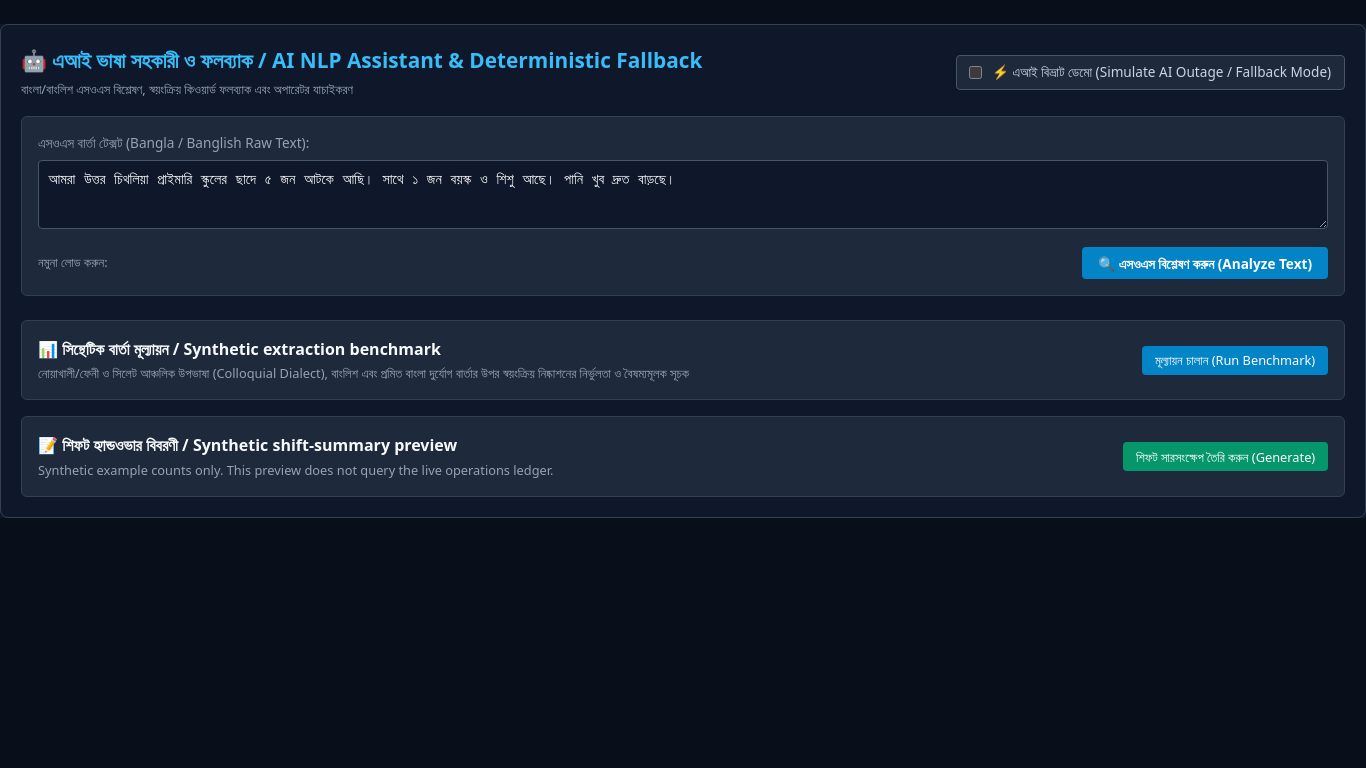
AiLanguageAssistant Component › renders the actual backend summary contract and labels sample counts as synthetic
This screenshot has width=1366, height=768.
What coordinates should you click on to do the following:
click the button "শিফট সারসংক্ষেপ তৈরি করুন (Generate)"
I would click on:
 (1226, 456)
Its box is [1123,442,1328,471].
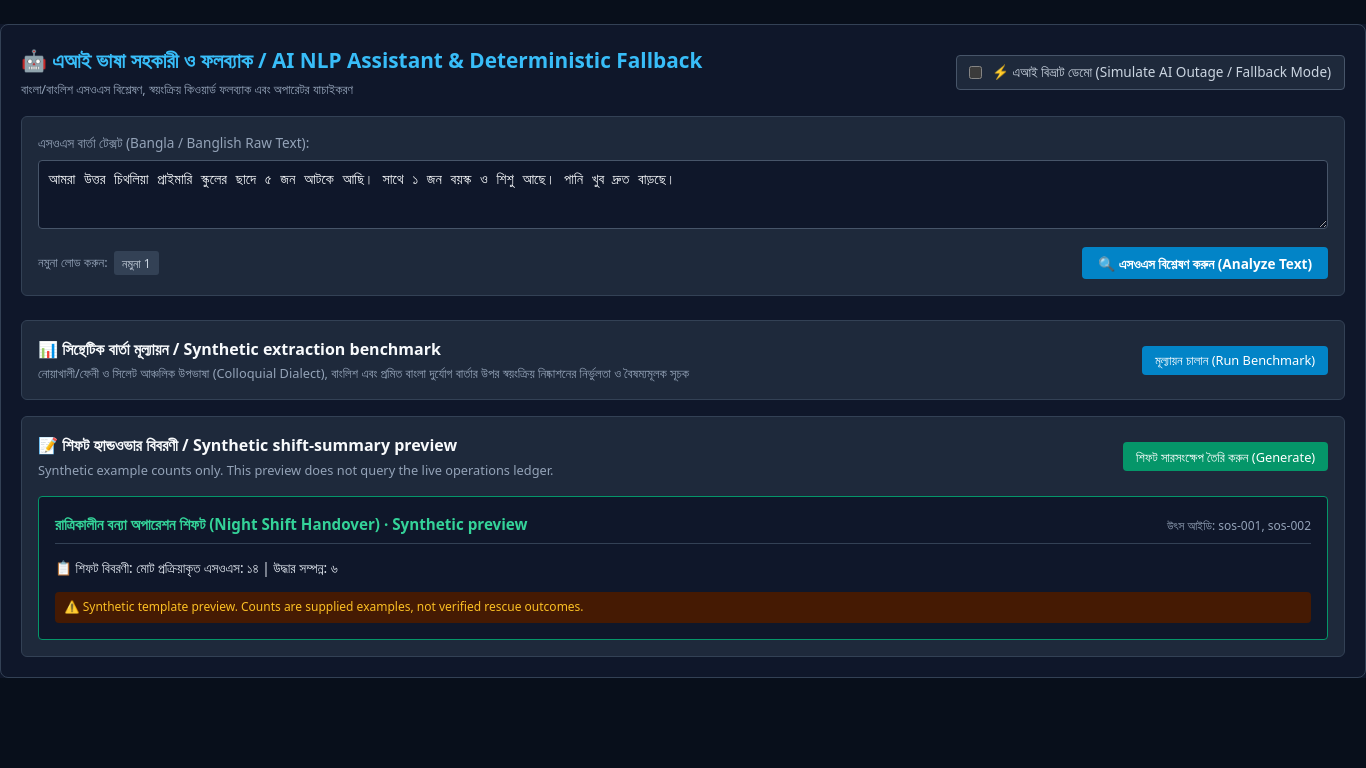
Check: the text "রাত্রিকালীন বন্যা অপারেশন শিফট (Night Shift Handover)" is shown, box [55,514,528,534]
Check: the text "উৎস আইডি: sos-001, sos-002" is shown, box [1167,517,1311,535]
Check: the text "Counts are supplied examples, not verified rescue outcomes" is shown, box [65,598,584,615]
